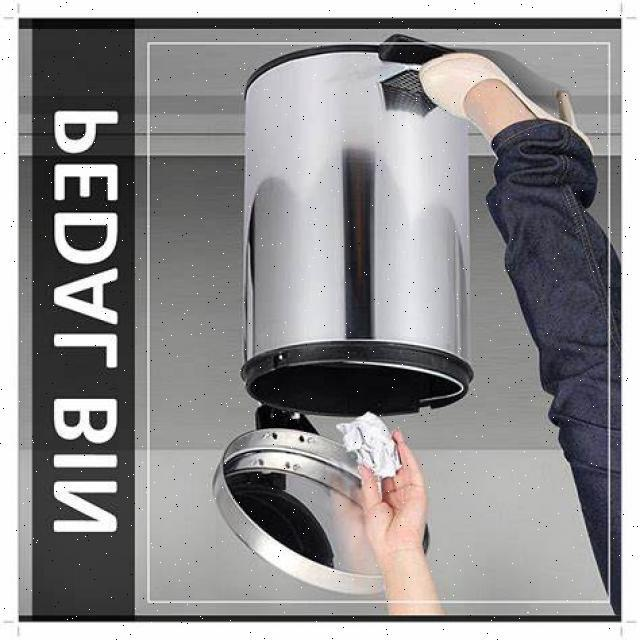garbage container: (206, 58, 488, 597)
